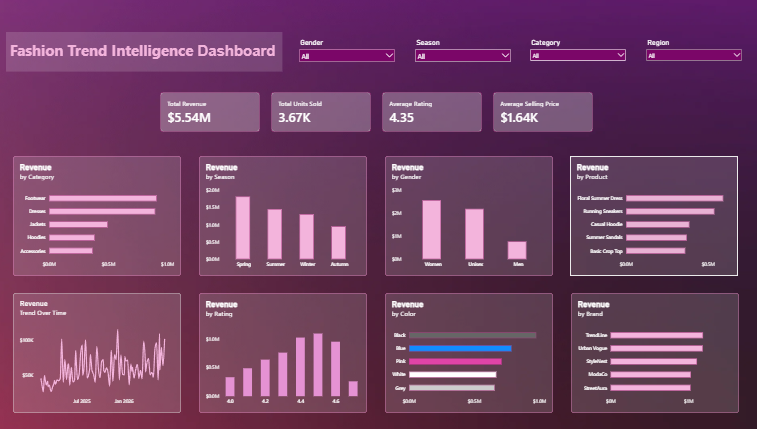

The page's visual inventory and layout, read from the dashboard file:
{"tool":"powerbi","page":{"name":"Page 1","canvas":[1920,1080],"ordinal":0},"visuals":[{"type":"group","id":"g1","title":"Group 1","box":[422.5,230,1080,100],"z":0},{"type":"cardVisual","fields":{"Data":["Fashion Sales.Total Revenue"]},"box":[422.5,230,250,100],"z":0,"group":"g1"},{"type":"clusteredBarChart","title":"Revenue","fields":{"Category":["Fashion Sales.Category"],"Y":["Fashion Sales.Total Revenue"]},"box":[55,390,420,300],"z":0,"group":"g4"},{"type":"textbox","box":[37.5,80,691.4,98.6],"z":1000},{"type":"cardVisual","fields":{"Data":["Fashion Sales.Total Units Sold"]},"box":[699.8,230,250,100],"z":1000,"group":"g1"},{"type":"clusteredColumnChart","title":"Revenue","fields":{"Category":["Fashion Sales.Season"],"Y":["Fashion Sales.Total Revenue"]},"box":[520.6,390,420,300],"z":1000,"group":"g4"},{"type":"group","id":"g2","title":"Group 2","box":[765,95,1117.5,87.5],"z":2000},{"type":"cardVisual","fields":{"Data":["Fashion Sales.Average Rating"]},"box":[977.2,230,250,100],"z":2000,"group":"g1"},{"type":"clusteredBarChart","title":"Revenue","fields":{"Category":["Fashion Sales.Product"],"Y":["Fashion Sales.Total Revenue"]},"box":[1446.9,390.5,420,300],"z":2000,"group":"g4"},{"type":"cardVisual","fields":{"Data":["Fashion Sales.Average Selling Price","Fashion Sales.Average Selling Price"]},"box":[1254.5,230,250,100],"z":3000,"group":"g1"},{"type":"clusteredColumnChart","title":"Revenue","fields":{"Category":["Fashion Sales.Gender"],"Y":["Fashion Sales.Total Revenue"]},"box":[986.1,390,420,300],"z":3000,"group":"g4"},{"type":"group","id":"g3","title":"Group 3","box":[55,732.5,1815.8,300.5],"z":3000},{"type":"group","id":"g4","title":"Group 4","box":[55,390,1810,300],"z":4000},{"type":"clusteredBarChart","title":"Revenue","fields":{"Category":["Fashion Sales.Brand"],"Y":["Fashion Sales.Total Revenue"]},"box":[1450.8,733,420,300],"z":4000,"group":"g3"},{"type":"clusteredColumnChart","title":"Revenue","fields":{"Category":["Fashion Sales.Rating"],"Y":["Fashion Sales.Total Revenue"]},"box":[519.7,733,420,300],"z":5000,"group":"g3"},{"type":"lineChart","title":"Revenue","fields":{"Category":["Fashion Sales.Date.Variation.Date Hierarchy.Year","Fashion Sales.Date.Variation.Date Hierarchy.Quarter","Fashion Sales.Date.Variation.Date Hierarchy.Month","Fashion Sales.Date.Variation.Date Hierarchy.Day"],"Y":["Fashion Sales.Total Revenue"]},"box":[55,733,420,300],"z":6000,"group":"g3"},{"type":"clusteredBarChart","title":"Revenue","fields":{"Category":["Fashion Sales.Color"],"Y":["Fashion Sales.Total Revenue"]},"box":[985.5,732.5,420,300],"z":7000,"group":"g3"},{"type":"slicer","fields":{"Values":["Fashion Sales.Gender"]},"box":[765,95,250,86.7],"z":8000,"group":"g2"},{"type":"slicer","fields":{"Values":["Fashion Sales.Season"]},"box":[1054.4,95,250,90],"z":9000,"group":"g2"},{"type":"slicer","fields":{"Values":["Fashion Sales.Category"]},"box":[1343.7,95,250,90],"z":10000,"group":"g2"},{"type":"slicer","fields":{"Values":["Fashion Sales.Region"]},"box":[1633.1,95,250,89.5],"z":11000,"group":"g2"}]}

Visuals, with their boxes in screenshot pixels (x1, y1, x2, y2), scaled from the page's 1920x1080 canvas onto the 757x429 screenshot:
"Group 1" group: <bbox>167, 91, 592, 131</bbox>
cardVisual - Fashion Sales.Total Revenue: <bbox>167, 91, 265, 131</bbox>
"Revenue" clusteredBarChart: <bbox>22, 155, 187, 274</bbox>
textbox: <bbox>15, 32, 287, 71</bbox>
cardVisual - Fashion Sales.Total Units Sold: <bbox>276, 91, 374, 131</bbox>
"Revenue" clusteredColumnChart: <bbox>205, 155, 371, 274</bbox>
"Group 2" group: <bbox>302, 38, 742, 72</bbox>
cardVisual - Fashion Sales.Average Rating: <bbox>385, 91, 484, 131</bbox>
"Revenue" clusteredBarChart: <bbox>570, 155, 736, 274</bbox>
cardVisual - Fashion Sales.Average Selling Price x Fashion Sales.Average Selling Price: <bbox>495, 91, 593, 131</bbox>
"Revenue" clusteredColumnChart: <bbox>389, 155, 554, 274</bbox>
"Group 3" group: <bbox>22, 291, 738, 410</bbox>
"Group 4" group: <bbox>22, 155, 735, 274</bbox>
"Revenue" clusteredBarChart: <bbox>572, 291, 738, 410</bbox>
"Revenue" clusteredColumnChart: <bbox>205, 291, 370, 410</bbox>
"Revenue" lineChart: <bbox>22, 291, 187, 410</bbox>
"Revenue" clusteredBarChart: <bbox>389, 291, 554, 410</bbox>
slicer - Fashion Sales.Gender: <bbox>302, 38, 400, 72</bbox>
slicer - Fashion Sales.Season: <bbox>416, 38, 514, 73</bbox>
slicer - Fashion Sales.Category: <bbox>530, 38, 628, 73</bbox>
slicer - Fashion Sales.Region: <bbox>644, 38, 742, 73</bbox>
